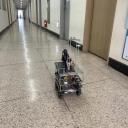cart: (54, 62, 84, 100)
